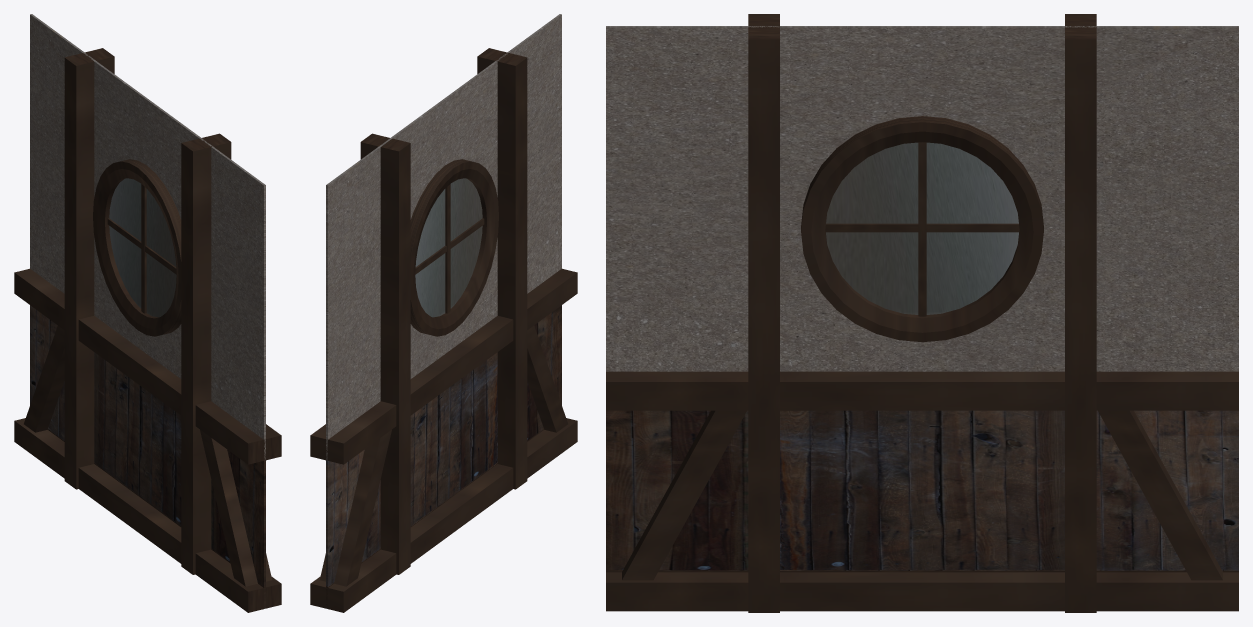
Rendered from OutdoorArchitecture_BasicWall01_Window02_NoEdges_BShortt.fbx.
3 renders of one model, left to right at view 1: azimuth 30°, elevation 25°; view 2: azimuth 150°, elevation 25°; view 3: azimuth 270°, elevation 25°, orthographic. The views are drawn at different scales.
Parts seen in each view (by area): view 1: OutdoorArchitecture_BasicWall01_Window02_NoEdges_BShortt; view 2: OutdoorArchitecture_BasicWall01_Window02_NoEdges_BShortt; view 3: OutdoorArchitecture_BasicWall01_Window02_NoEdges_BShortt.
Part boxes in pixels (left/top/right/bottom): OutdoorArchitecture_BasicWall01_Window02_NoEdges_BShortt: left=14, top=14, right=281, bottom=612; OutdoorArchitecture_BasicWall01_Window02_NoEdges_BShortt: left=310, top=14, right=577, bottom=612; OutdoorArchitecture_BasicWall01_Window02_NoEdges_BShortt: left=606, top=14, right=1238, bottom=612.
Bounding box in the file's own units: 28.5 × 300 × 300.
